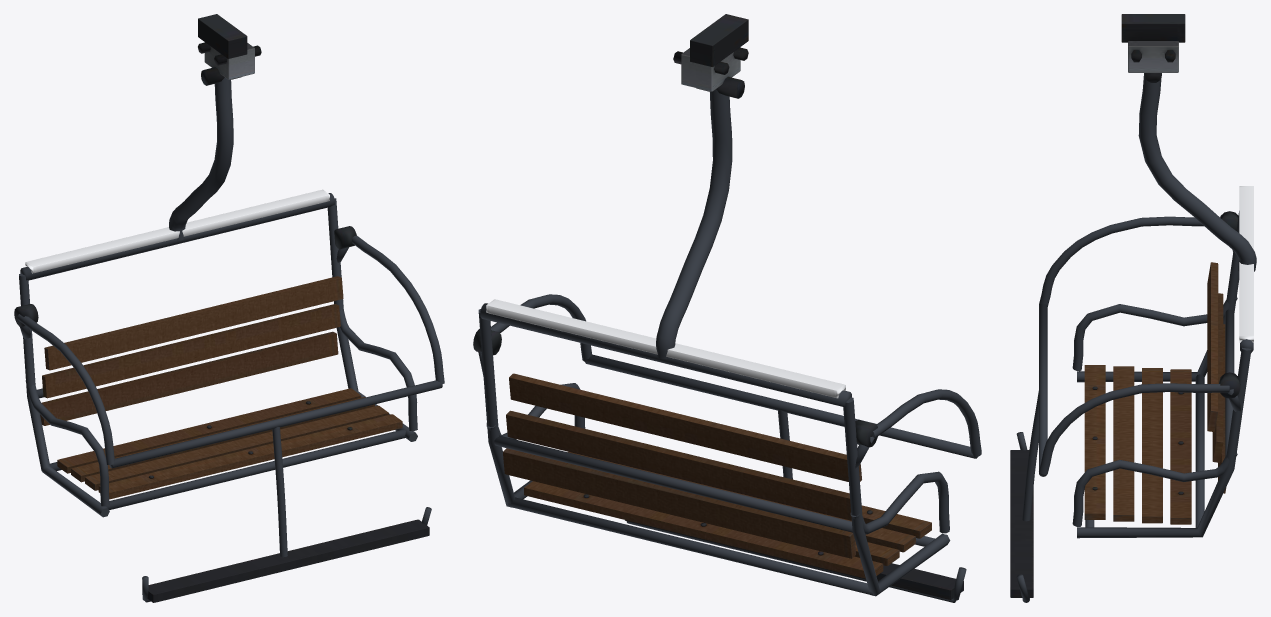
File: chair3.glb
3 renders of one model, left to right at view 1: azimuth 30°, elevation 25°; view 2: azimuth 150°, elevation 25°; view 3: azimuth 270°, elevation 25°, orthographic. The views are drawn at different scales.
Visible parts, largest first — view 1: chair3, chair3_paint, chair3_snow; view 2: chair3, chair3_paint, chair3_snow; view 3: chair3, chair3_paint, chair3_snow.
Part boxes in pixels (x1=…): chair3: x1=14, y1=14, x2=429, y2=602; chair3_paint: x1=16, y1=77, x2=444, y2=602; chair3_snow: x1=25, y1=189, x2=329, y2=273; chair3: x1=473, y1=14, x2=963, y2=599; chair3_paint: x1=478, y1=89, x2=981, y2=602; chair3_snow: x1=486, y1=299, x2=845, y2=398; chair3: x1=1010, y1=14, x2=1240, y2=597; chair3_paint: x1=1016, y1=73, x2=1256, y2=602; chair3_snow: x1=1239, y1=186, x2=1253, y2=342.
Bounding box in the file's own units: 1.9 × 2.68 × 1.16.
Materials: 3 (1 with a texture image).
